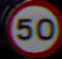Speed limit: (3, 2, 58, 52)
